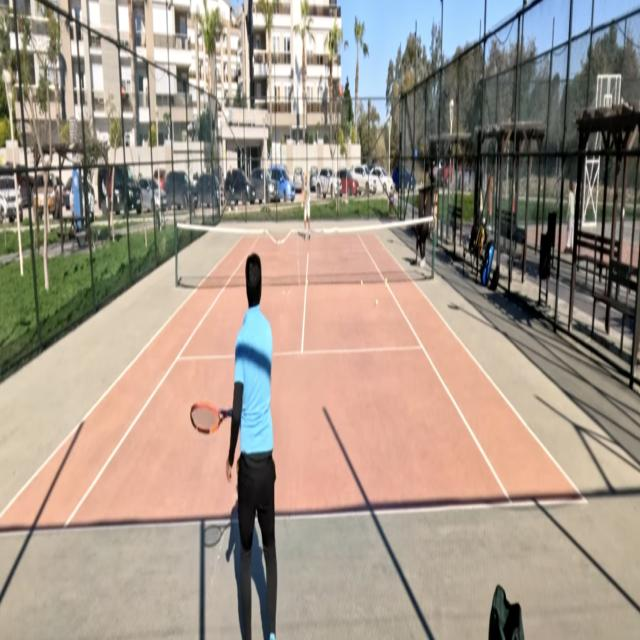ball: (375, 298, 378, 306), (306, 278, 308, 285), (385, 278, 387, 284), (386, 284, 388, 290), (361, 280, 363, 286)
